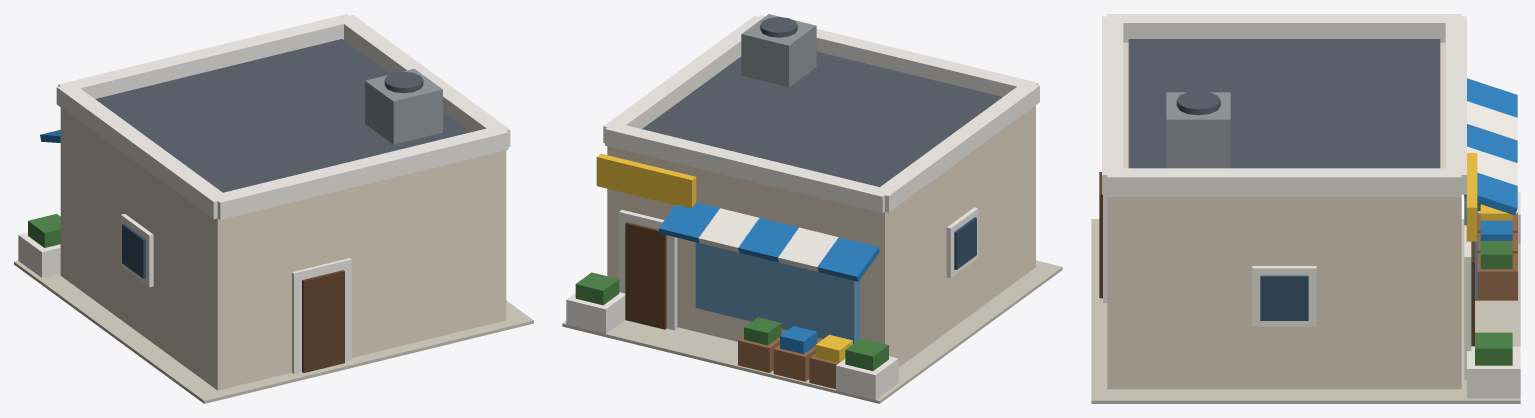
The picture shows the model from 3 angles, left to right: view 1: azimuth 30°, elevation 25°; view 2: azimuth 150°, elevation 25°; view 3: azimuth 270°, elevation 25°; orthographic projection. The views are drawn at different scales.
Visible parts, largest first — view 1: shop, roof, parapet (×4), ground, ac_unit_body, door, door_frame, planter, window_glass, planter_hedge, window_frame, ac_unit_fan; view 2: shop, roof, parapet (×4), storefront, awning_stripe (×5), ground, door, ac_unit_body, planter (×2), sign, crate (×3), produce (×3) (+5 smaller); view 3: shop, roof, parapet (×4), ground, awning_stripe (×5), ac_unit_body, window_glass, planter, produce (×3), window_frame, door_frame (×2), crate (+4 smaller).
Boxes of the visible parts, <box> form: shop: <box>60,107,506,390</box>; roof: <box>95,39,469,192</box>; parapet (×4): <box>56,14,510,219</box>; ground: <box>14,261,533,403</box>; ac_unit_body: <box>365,68,442,144</box>; door: <box>302,270,344,372</box>; door_frame: <box>292,258,351,373</box>; planter: <box>18,232,60,277</box>; window_glass: <box>122,224,145,278</box>; planter_hedge: <box>28,214,60,247</box>; window_frame: <box>121,214,153,287</box>; ac_unit_fan: <box>384,71,423,93</box>; shop: <box>607,105,1035,367</box>; roof: <box>642,51,1002,186</box>; parapet (×4): <box>603,15,1039,213</box>; storefront: <box>695,242,859,343</box>; awning_stripe (×5): <box>658,202,879,281</box>; ground: <box>562,260,1062,403</box>; door: <box>625,222,666,329</box>; ac_unit_body: <box>741,14,816,86</box>; planter (×2): <box>566,292,898,399</box>; sign: <box>596,153,696,208</box>; crate (×3): <box>738,333,838,389</box>; produce (×3): <box>744,317,852,362</box>; shop: <box>1107,42,1461,389</box>; roof: <box>1128,39,1440,168</box>; parapet (×4): <box>1102,14,1466,196</box>; ground: <box>1091,219,1520,403</box>; awning_stripe (×5): <box>1464,78,1517,215</box>; ac_unit_body: <box>1166,92,1230,168</box>; window_glass: <box>1260,275,1308,320</box>; planter: <box>1467,346,1520,398</box>; produce (×3): <box>1480,204,1512,269</box>; window_frame: <box>1252,266,1316,326</box>; door_frame (×2): <box>1103,194,1471,380</box>; crate: <box>1475,253,1517,300</box>.
Bounding box in the file's own units: 8 × 5.31 × 8.
